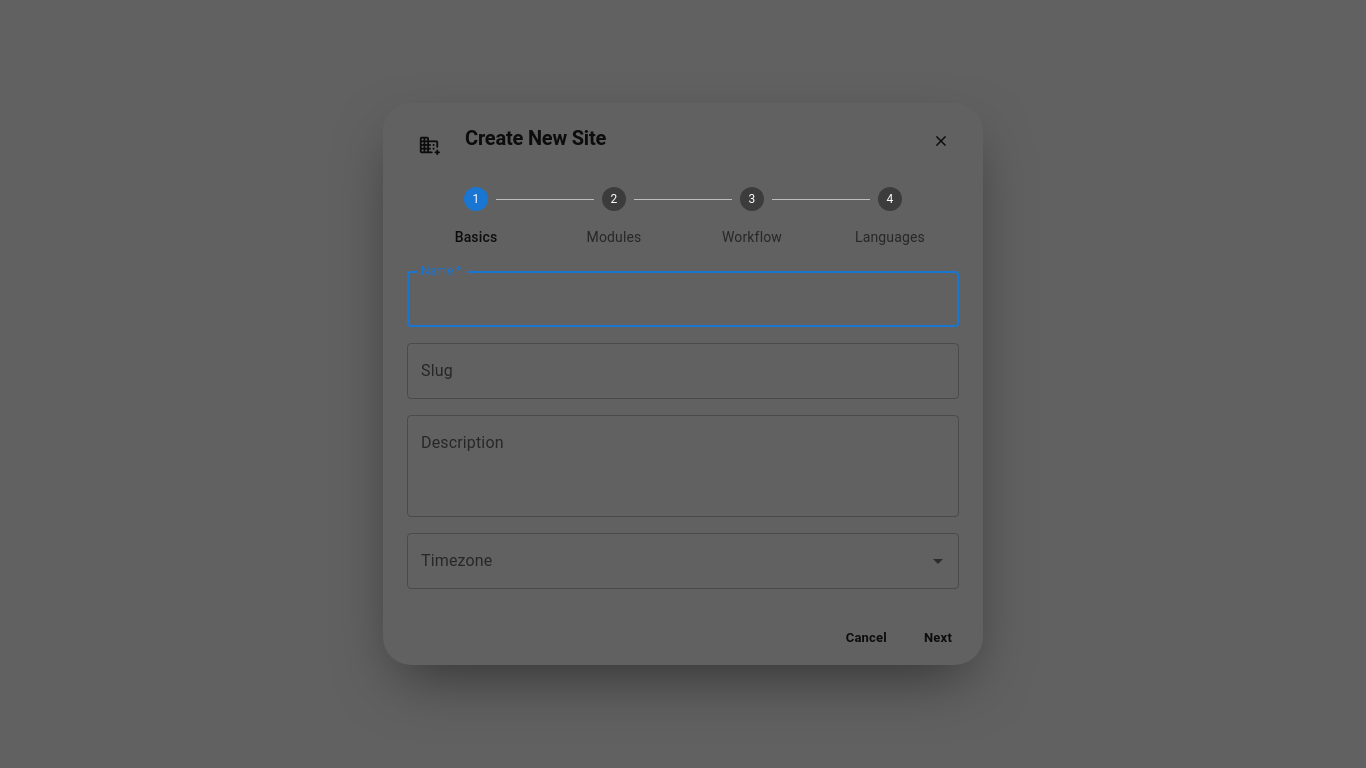
SiteCreationWizard › advances to modules step after filling basics
This screenshot has width=1366, height=768.
Type "My Site" into the field labelled "Name *" at point(683, 299), box [407,271,959,327]
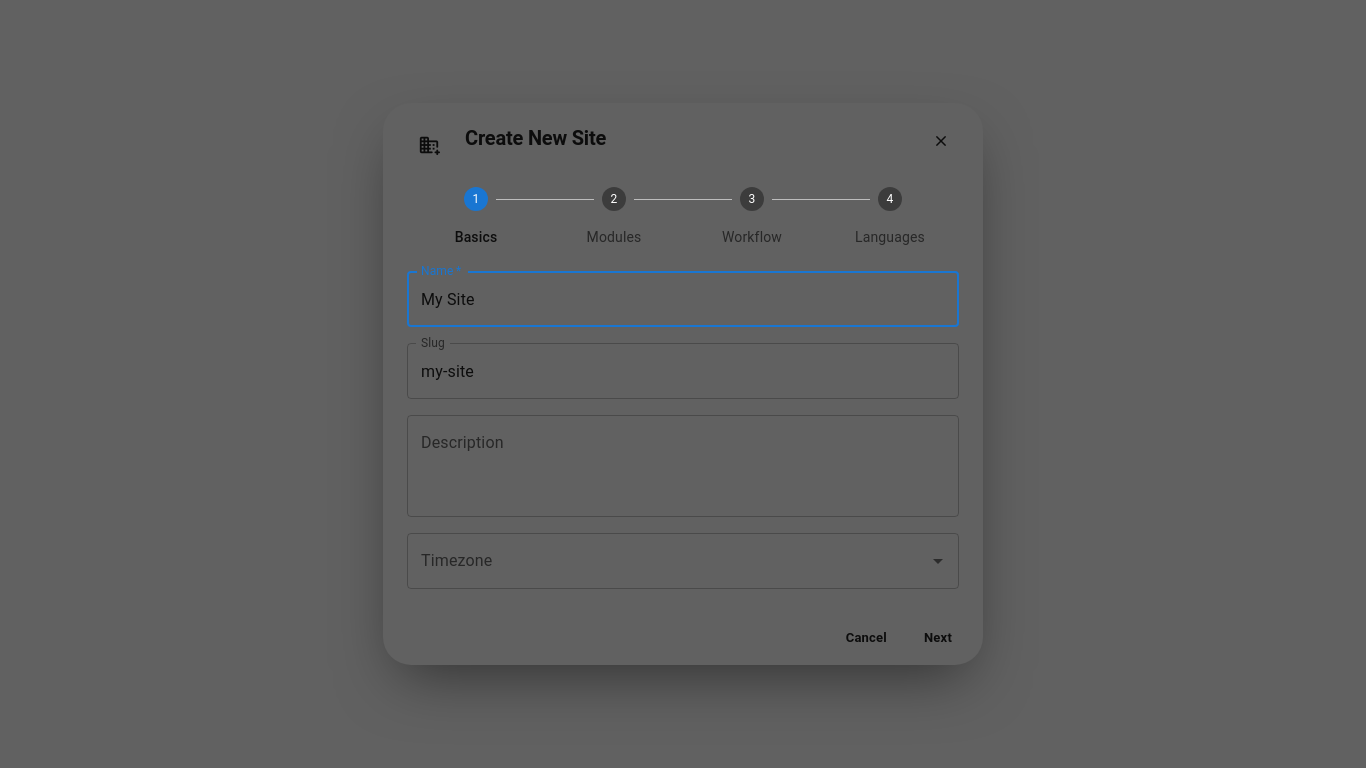
Click the button with test id "site-wizard.btn.next" at point(938, 637), box [909,621,967,653]
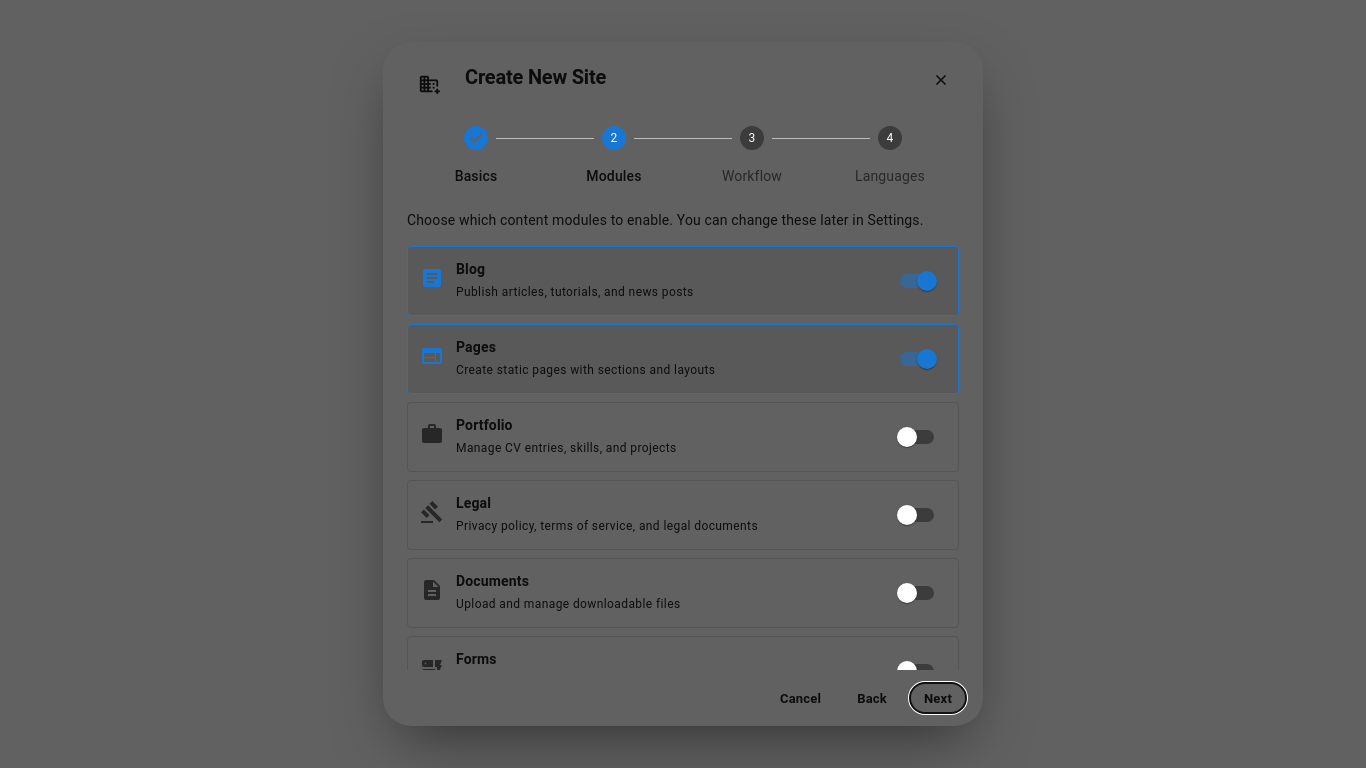
Result: the element with test id "site-wizard.module.blog" is shown at [917,271,937,291]
